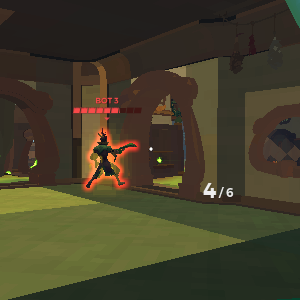model: (82, 126, 140, 191)
